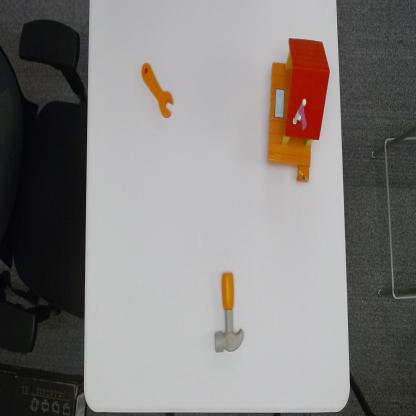Hammer: (213, 270, 246, 356)
House: (266, 35, 331, 185)
Screwdriver: (140, 58, 175, 120)
